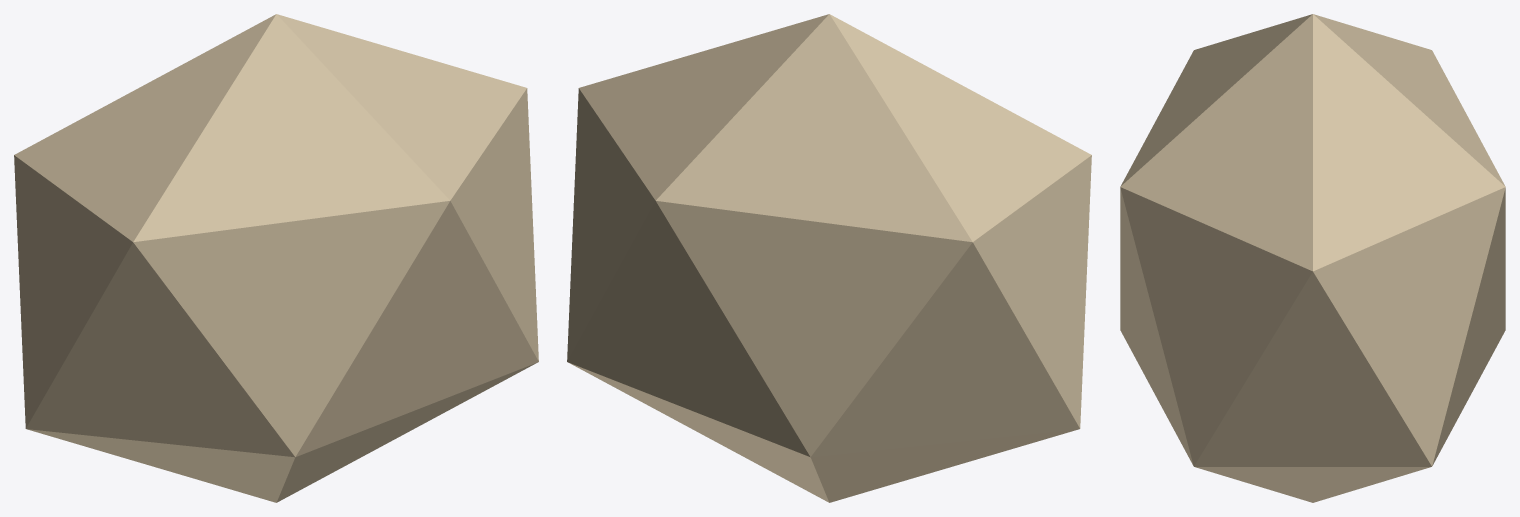
The model's file is CoastRock.fbx.
The picture shows the model from 3 angles, left to right: view 1: azimuth 30°, elevation 25°; view 2: azimuth 150°, elevation 25°; view 3: azimuth 270°, elevation 25°; orthographic projection.
Parts seen in each view (by area): view 1: FacetedRock; view 2: FacetedRock; view 3: FacetedRock.
Part boxes in pixels (bbox=[...]): FacetedRock: bbox=[14, 14, 538, 502]; FacetedRock: bbox=[567, 14, 1091, 502]; FacetedRock: bbox=[1120, 14, 1505, 502].
Bounding box in the file's own units: 5.37 × 5 × 3.57.
